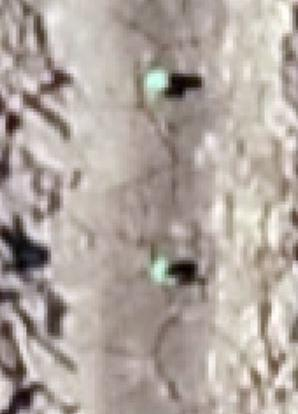cotton: (148, 69, 167, 91), (152, 256, 168, 281)
